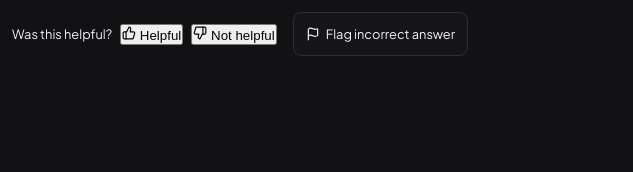
Test case: Tutor feedback eligibility and controls › links Helpful to the actual persisted ID
Click the button "Helpful". click: (152, 34)
box: [120,24,183,44]
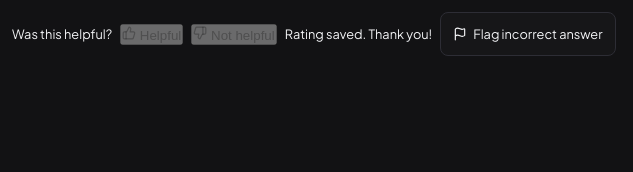
Expected: the text "Rating saved. Thank you!" is shown, [285,26,432,42]
Expected: the button "Helpful" is disabled, [120,24,183,44]
Expected: the button "Not helpful" is disabled, [191,24,277,44]
